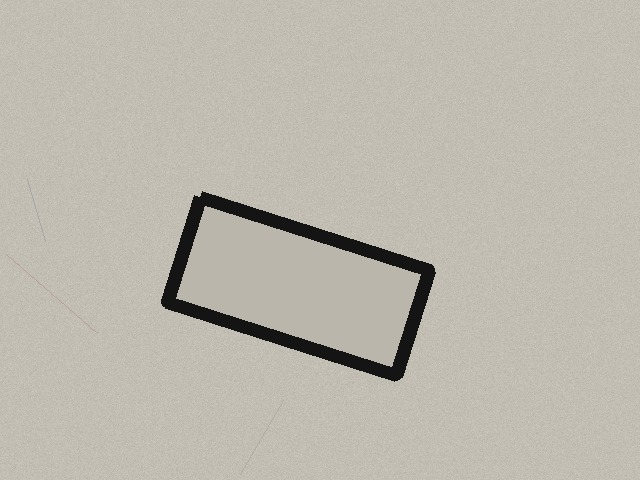parking_area: (167, 197, 429, 375)
